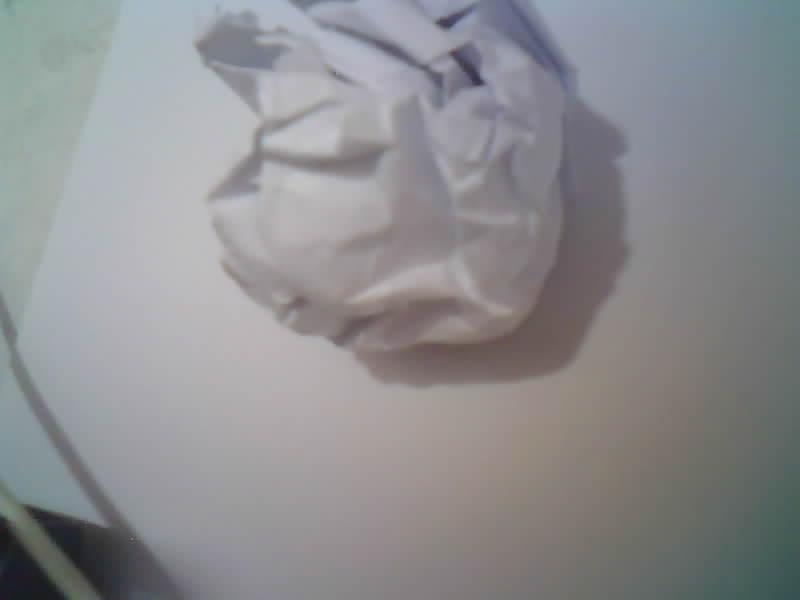biodegradable: (196, 0, 563, 351)
